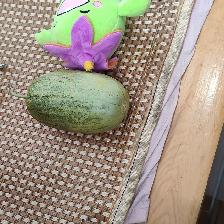gua: (28, 79, 124, 129)
